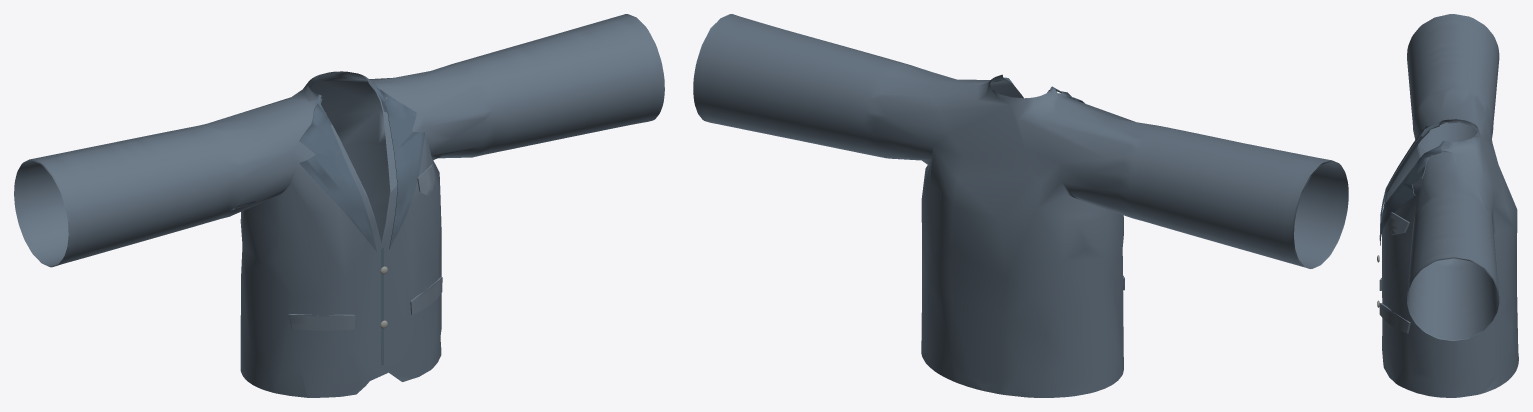
The model's file is school-blazer-only.glb.
The picture shows the model from 3 angles, left to right: view 1: azimuth 30°, elevation 25°; view 2: azimuth 150°, elevation 25°; view 3: azimuth 270°, elevation 25°; orthographic projection. The views are drawn at different scales.
Visible parts, largest first — view 1: Apparel_school-blazer_cloth, Apparel_school-blazer_notched-lapels, Apparel_school-blazer_pocket-flaps-and-breast-pocket; view 2: Apparel_school-blazer_cloth; view 3: Apparel_school-blazer_cloth, Apparel_school-blazer_notched-lapels, Apparel_school-blazer_pocket-flaps-and-breast-pocket.
Boxes of the visible parts, <box> form: Apparel_school-blazer_cloth: <box>14,14,664,397</box>; Apparel_school-blazer_notched-lapels: <box>299,82,424,365</box>; Apparel_school-blazer_pocket-flaps-and-breast-pocket: <box>288,164,442,330</box>; Apparel_school-blazer_cloth: <box>693,14,1348,397</box>; Apparel_school-blazer_cloth: <box>1382,14,1518,397</box>; Apparel_school-blazer_notched-lapels: <box>1379,121,1445,245</box>; Apparel_school-blazer_pocket-flaps-and-breast-pocket: <box>1379,212,1410,333</box>.
Bounding box in the file's own units: 3.12 × 1.37 × 0.7658.
